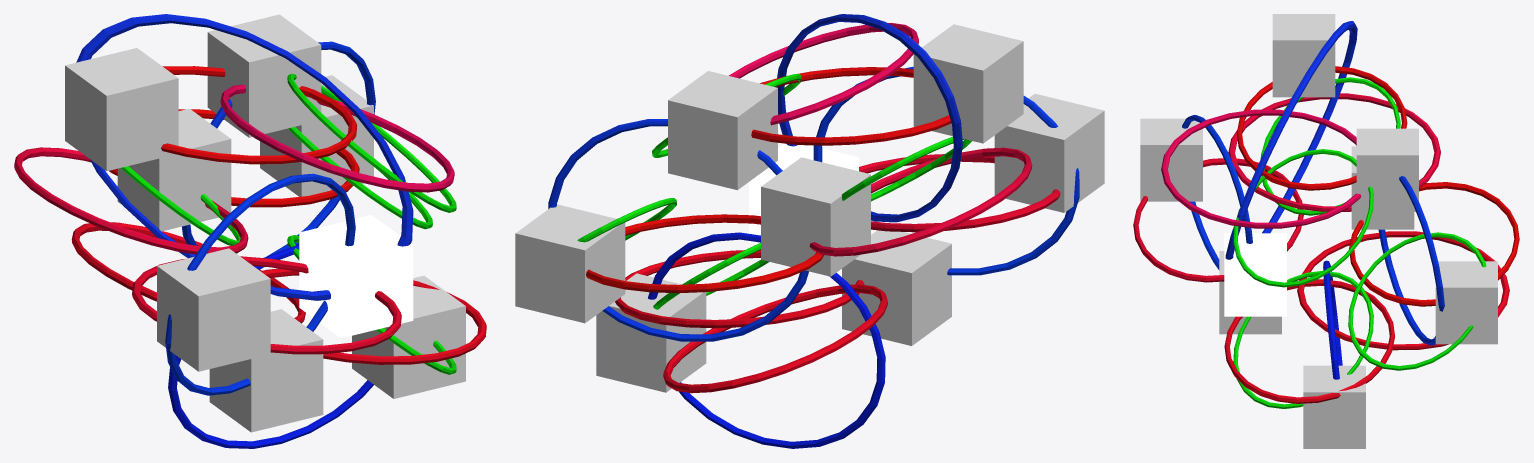
File: mapa.71c25a40.gltf
The picture shows the model from 3 angles, left to right: view 1: azimuth 30°, elevation 25°; view 2: azimuth 150°, elevation 25°; view 3: azimuth 270°, elevation 25°; orthographic projection. The views are drawn at different scales.
Visible parts, largest first — view 1: Cube.006, Cube.007, Cube, Cube.001, Cube.004, Cube.005, Cube.003, Rosca.004, Cube.002, Rosca.011, Rosca.005, Rosca.010 (+11 smaller); view 2: Cube.001, Cube.002, Cube.005, Cube.006, Cube.007, Cube.004, Cube.003, Rosca.004, Rosca.006, Rosca.009, Rosca.007, Rosca.001 (+10 smaller); view 3: Cube.001, Cube.002, Cube.006, Cube.003, Cube, Cube.007, Rosca.004, Rosca.011, Rosca.010, Rosca.009, Rosca.002, Rosca.001 (+11 smaller).
Boxes of the visible parts, left/top/right/bottom form: Cube.006: left=65, top=48, right=178, bottom=171; Cube.007: left=157, top=248, right=270, bottom=371; Cube: left=299, top=215, right=413, bottom=338; Cube.001: left=207, top=14, right=321, bottom=137; Cube.004: left=209, top=309, right=323, bottom=432; Cube.005: left=117, top=108, right=231, bottom=231; Cube.003: left=352, top=275, right=465, bottom=398; Rosca.004: left=76, top=14, right=413, bottom=300; Cube.002: left=260, top=75, right=373, bottom=196; Rosca.011: left=220, top=84, right=454, bottom=192; Rosca.005: left=165, top=173, right=355, bottom=395; Rosca.010: left=14, top=147, right=248, bottom=254; Cube.001: left=668, top=71, right=777, bottom=190; Cube.002: left=515, top=204, right=625, bottom=323; Cube.005: left=761, top=157, right=870, bottom=276; Cube.006: left=913, top=24, right=1023, bottom=143; Cube.007: left=994, top=93, right=1104, bottom=212; Cube.004: left=842, top=230, right=951, bottom=345; Cube.003: left=596, top=273, right=706, bottom=392; Rosca.004: left=776, top=14, right=962, bottom=222; Rosca.006: left=648, top=232, right=885, bottom=448; Rosca.009: left=663, top=284, right=887, bottom=393; Rosca.007: left=548, top=119, right=808, bottom=341; Rosca.001: left=586, top=214, right=824, bottom=293; Cube.001: left=1356, top=128, right=1418, bottom=211; Cube.002: left=1435, top=261, right=1497, bottom=344; Cube.006: left=1272, top=14, right=1335, bottom=97; Cube.003: left=1303, top=365, right=1365, bottom=448; Cube: left=1224, top=233, right=1286, bottom=316; Cube.007: left=1140, top=118, right=1202, bottom=201; Rosca.004: left=1225, top=21, right=1357, bottom=259; Rosca.011: left=1161, top=109, right=1361, bottom=228; Rosca.010: left=1228, top=93, right=1440, bottom=211; Rosca.009: left=1297, top=231, right=1509, bottom=350; Rosca.002: left=1224, top=279, right=1394, bottom=403; Rosca.001: left=1349, top=182, right=1519, bottom=306.
Size of the model in its own units: 11.99 by 12.24 by 12.34.
